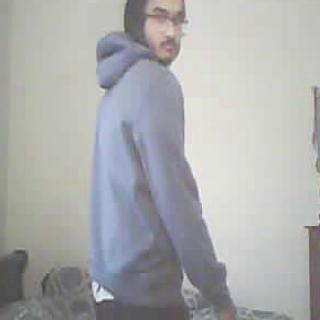Blue Hoodie: (86, 56, 201, 297)
Navy Sweatpants: (96, 299, 193, 320)
